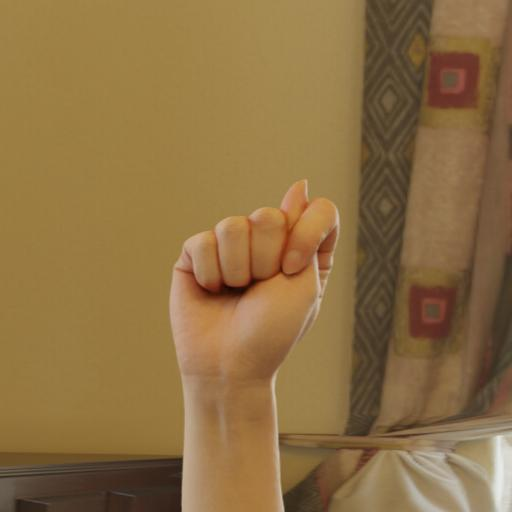T: (144, 167, 352, 474)
